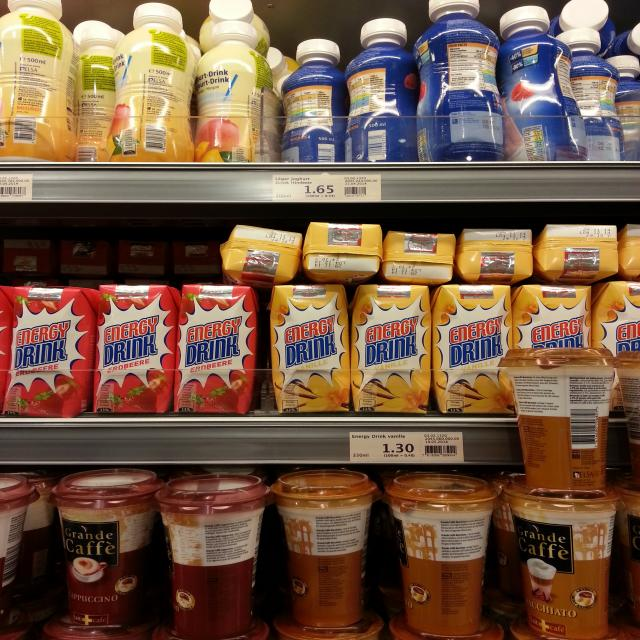Coffee: (498, 475, 627, 640), (382, 472, 503, 637), (154, 473, 271, 640), (47, 468, 165, 627), (270, 469, 383, 628), (497, 348, 623, 490)
Milk: (0, 286, 99, 417), (93, 284, 181, 413), (174, 283, 259, 414), (432, 284, 516, 413), (270, 284, 351, 413), (351, 285, 431, 414), (218, 224, 303, 282), (513, 285, 591, 348), (302, 222, 383, 282), (536, 225, 618, 284), (459, 228, 534, 283), (384, 230, 455, 284)
Yoghurt: (412, 0, 507, 161), (498, 6, 588, 161), (108, 2, 194, 162), (0, 0, 79, 162), (195, 20, 272, 162), (346, 18, 419, 162), (555, 28, 625, 161), (282, 38, 345, 163)
